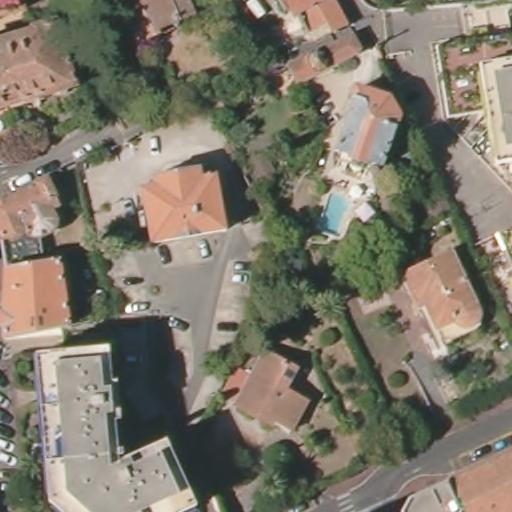pool: (320, 188, 351, 237)
